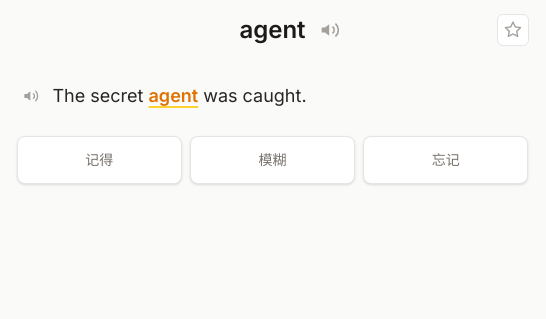
direct word learning › loads the next unread word without choosing a group, then saves the selected rating before advancing
Expected: the heading "agent" is shown, top-left (239, 14), bottom-right (306, 46)
Expected: the number of links "agent" is 2, top-left (239, 15), bottom-right (306, 44); top-left (148, 85), bottom-right (198, 106)
Click the button "记得". click: point(99, 160)
box: top-left (16, 136), bottom-right (182, 184)
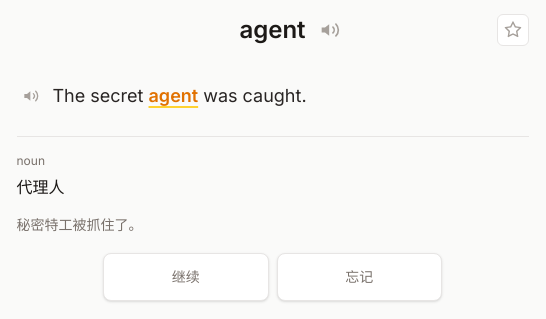
Now the text "代理人" is shown, box top-left (16, 177), bottom-right (64, 197)
Click the button "继续". click: point(186, 277)
box: top-left (103, 253), bottom-right (268, 301)
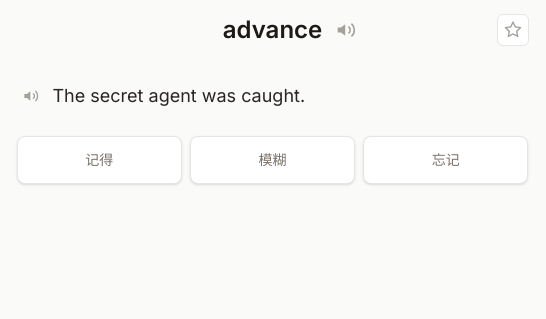
Now the link "advance" is shown, box top-left (223, 15), bottom-right (322, 44)
